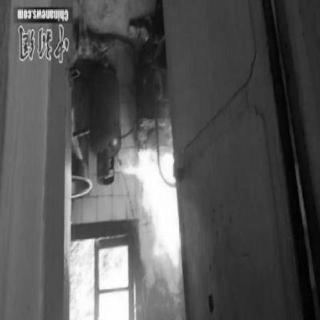Fire: (115, 151, 187, 305)
